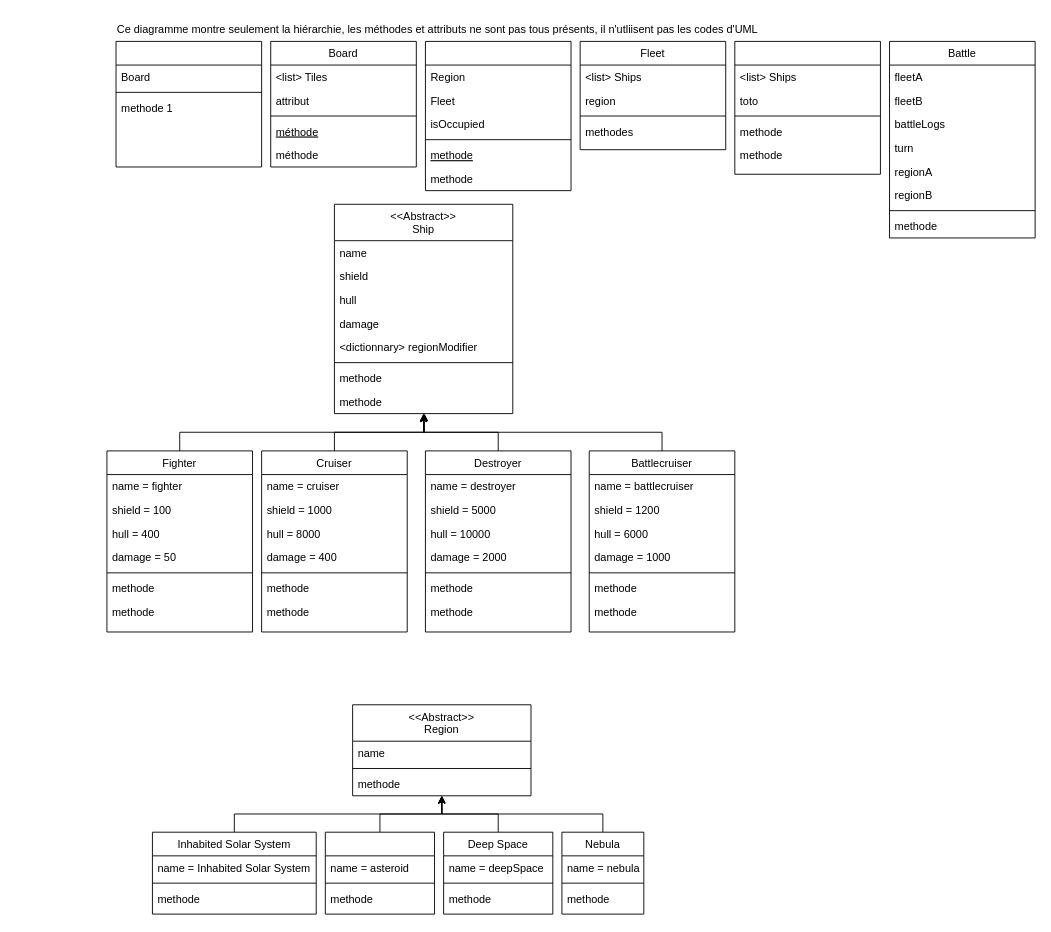
Some shapes in this 1051 by 932 pixel diagram are drawn without their labels. The box of each missing label's shape, as (x1, y1, x2, y2) in pixels:
Asteroid Field: (324, 831, 435, 914)
BoardTile: (425, 40, 571, 191)
FleetNullObject: (734, 40, 880, 174)
Game: (115, 40, 262, 167)
